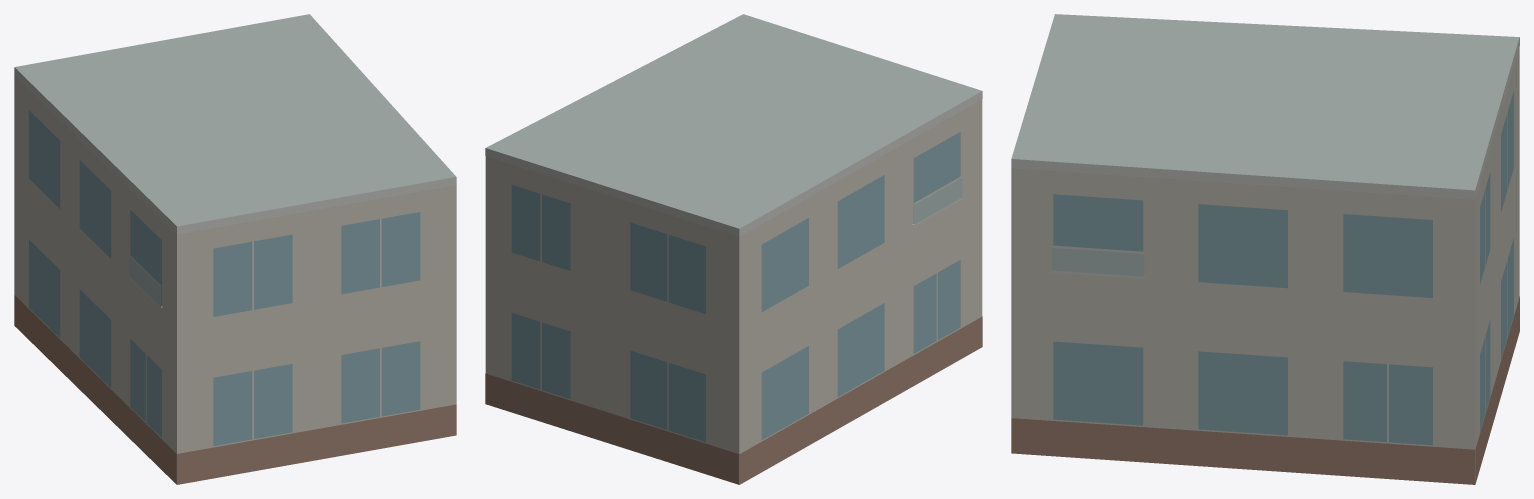
The model's file is survey-upis-32502930.glb.
The picture shows the model from 3 angles, left to right: view 1: azimuth 30°, elevation 25°; view 2: azimuth 150°, elevation 25°; view 3: azimuth 270°, elevation 25°; orthographic projection. The views are drawn at different scales.
Visible parts, largest first — view 1: survey-upis-32502930.tmp; view 2: survey-upis-32502930.tmp; view 3: survey-upis-32502930.tmp.
Part boxes in pixels (<box>): survey-upis-32502930.tmp: <box>14,14,456,484</box>; survey-upis-32502930.tmp: <box>485,14,982,484</box>; survey-upis-32502930.tmp: <box>1011,14,1519,484</box>.
Size of the model in its own units: 9.9 by 7.7 by 12.06.
